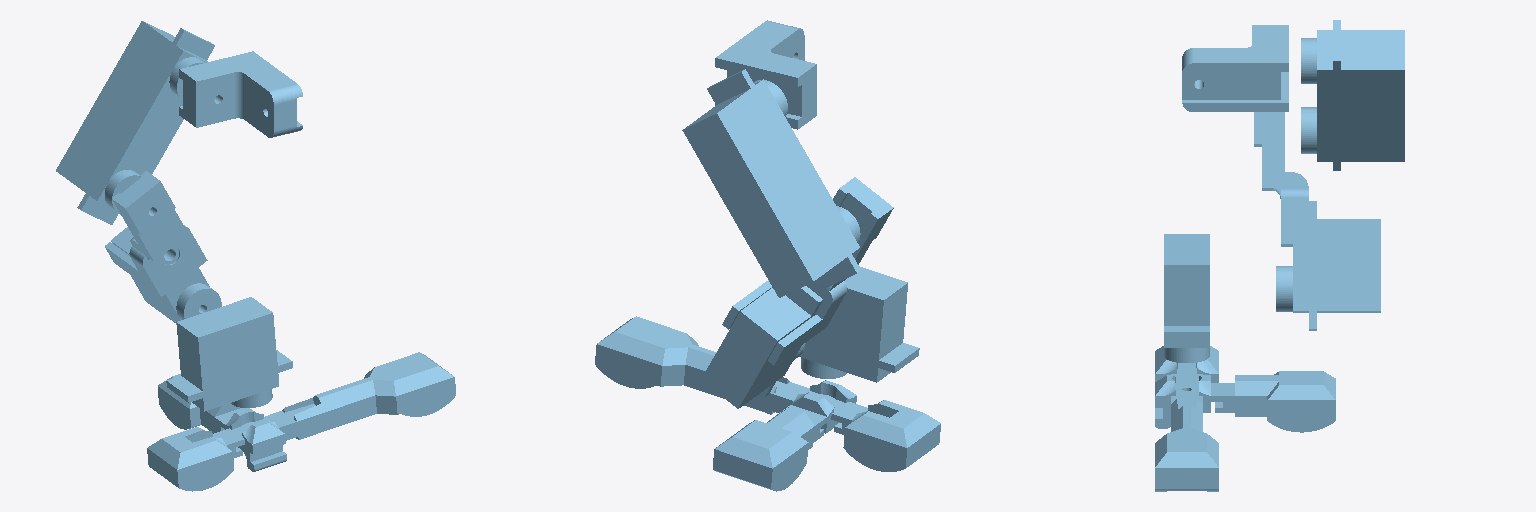
robot.urdf — battle-bot:
<robot name="battle-bot">
<link name="thigh_bracket">
<visual>
<origin xyz="0.0813147 0.0534459 -0.0195855" rpy="1.5708 1.5708 0" />
<geometry>
<mesh filename="package://battle_bot_description/meshes/thigh_bracket.stl"/>
</geometry>
<material name="thigh_bracket_material">
<color rgba="0.615686 0.811765 0.929412 1.0"/>
</material>
</visual>
<collision>
<origin xyz="0.0813147 0.0534459 -0.0195855" rpy="1.5708 1.5708 0" />
<geometry>
<mesh filename="package://battle_bot_description/meshes/thigh_bracket.stl"/>
</geometry>
<material name="thigh_bracket_material">
<color rgba="0.615686 0.811765 0.929412 1.0"/>
</material>
</collision>
<inertial>
<origin xyz="0.0882905 0.0438683 -0.0195855" rpy="0 0 0"/>
<mass value="0.00417552" />
<inertia ixx="2.17016e-07" ixy="1.35788e-21"  ixz="-8.47627e-08" iyy="3.64043e-07" iyz="8.35566e-22" izz="2.89792e-07" />
</inertial>
</link>

<link name="servo">
<visual>
<origin xyz="-0.00575 1.38778e-17 -0.011" rpy="2.3915e-30 1.50846e-16 7.00748e-17" />
<geometry>
<mesh filename="package://battle_bot_description/meshes/servo.stl"/>
</geometry>
<material name="servo_material">
<color rgba="0.615686 0.811765 0.929412 1.0"/>
</material>
</visual>
<collision>
<origin xyz="-0.00575 1.38778e-17 -0.011" rpy="2.3915e-30 1.50846e-16 7.00748e-17" />
<geometry>
<mesh filename="package://battle_bot_description/meshes/servo.stl"/>
</geometry>
<material name="servo_material">
<color rgba="0.615686 0.811765 0.929412 1.0"/>
</material>
</collision>
<inertial>
<origin xyz="-0.00539557 1.37738e-17 -0.0100053" rpy="0 0 0"/>
<mass value="0.0504114" />
<inertia ixx="2.92907e-06" ixy="1.55049e-22"  ixz="-2.14501e-07" iyy="4.82779e-06" iyz="1.34203e-23" izz="2.99518e-06" />
</inertial>
</link>

<link name="servo_2">
<visual>
<origin xyz="0 -0.003 -0.0115" rpy="1.5708 1.5708 0" />
<geometry>
<mesh filename="package://battle_bot_description/meshes/servo.stl"/>
</geometry>
<material name="servo_material">
<color rgba="0.615686 0.811765 0.929412 1.0"/>
</material>
</visual>
<collision>
<origin xyz="0 -0.003 -0.0115" rpy="1.5708 1.5708 0" />
<geometry>
<mesh filename="package://battle_bot_description/meshes/servo.stl"/>
</geometry>
<material name="servo_material">
<color rgba="0.615686 0.811765 0.929412 1.0"/>
</material>
</collision>
<inertial>
<origin xyz="-9.74562e-20 -0.00399472 -0.0118544" rpy="0 0 0"/>
<mass value="0.0504114" />
<inertia ixx="2.99518e-06" ixy="2.14501e-07"  ixz="-1.98692e-22" iyy="2.92907e-06" iyz="2.32563e-23" izz="4.82779e-06" />
</inertial>
</link>

<link name="knee_mount">
<visual>
<origin xyz="0.02 -2.08167e-17 0" rpy="-3.14159 -5.19963e-31 -1.13182e-17" />
<geometry>
<mesh filename="package://battle_bot_description/meshes/knee_mount.stl"/>
</geometry>
<material name="knee_mount_material">
<color rgba="0.615686 0.811765 0.929412 1.0"/>
</material>
</visual>
<collision>
<origin xyz="0.02 -2.08167e-17 0" rpy="-3.14159 -5.19963e-31 -1.13182e-17" />
<geometry>
<mesh filename="package://battle_bot_description/meshes/knee_mount.stl"/>
</geometry>
<material name="knee_mount_material">
<color rgba="0.615686 0.811765 0.929412 1.0"/>
</material>
</collision>
<inertial>
<origin xyz="0.0133553 -2.05638e-17 0.00239697" rpy="0 0 0"/>
<mass value="0.00351559" />
<inertia ixx="2.25727e-07" ixy="9.02483e-24"  ixz="-1.61691e-07" iyy="5.16506e-07" iyz="-2.27711e-24" izz="4.43653e-07" />
</inertial>
</link>

<link name="servo_3">
<visual>
<origin xyz="0.01375 -6.93889e-18 -0.007" rpy="-1.65854e-31 1.92395e-30 -2.39783e-17" />
<geometry>
<mesh filename="package://battle_bot_description/meshes/servo.stl"/>
</geometry>
<material name="servo_material">
<color rgba="0.615686 0.811765 0.929412 1.0"/>
</material>
</visual>
<collision>
<origin xyz="0.01375 -6.93889e-18 -0.007" rpy="-1.65854e-31 1.92395e-30 -2.39783e-17" />
<geometry>
<mesh filename="package://battle_bot_description/meshes/servo.stl"/>
</geometry>
<material name="servo_material">
<color rgba="0.615686 0.811765 0.929412 1.0"/>
</material>
</collision>
<inertial>
<origin xyz="0.0141044 -7.0762e-18 -0.00600528" rpy="0 0 0"/>
<mass value="0.0504114" />
<inertia ixx="2.92907e-06" ixy="-1.29931e-22"  ixz="-2.14501e-07" iyy="4.82779e-06" iyz="1.0376e-24" izz="2.99518e-06" />
</inertial>
</link>

<link name="ankle_mount">
<visual>
<origin xyz="-1.38778e-17 -1.38778e-17 -6.93889e-18" rpy="-3.25237e-30 -6.83855e-31 -1.47196e-17" />
<geometry>
<mesh filename="package://battle_bot_description/meshes/ankle_mount.stl"/>
</geometry>
<material name="ankle_mount_material">
<color rgba="0.615686 0.811765 0.929412 1.0"/>
</material>
</visual>
<collision>
<origin xyz="-1.38778e-17 -1.38778e-17 -6.93889e-18" rpy="-3.25237e-30 -6.83855e-31 -1.47196e-17" />
<geometry>
<mesh filename="package://battle_bot_description/meshes/ankle_mount.stl"/>
</geometry>
<material name="ankle_mount_material">
<color rgba="0.615686 0.811765 0.929412 1.0"/>
</material>
</collision>
<inertial>
<origin xyz="-0.00496699 -1.32419e-17 0.00657987" rpy="0 0 0"/>
<mass value="0.00578055" />
<inertia ixx="3.06238e-07" ixy="-1.0859e-23"  ixz="8.94401e-09" iyy="9.21258e-07" iyz="7.89028e-26" izz="8.48031e-07" />
</inertial>
</link>

<link name="servo_4">
<visual>
<origin xyz="1.38778e-17 -0.000206107 -0.00575" rpy="-1.5708 -6.56188e-32 1.47196e-17" />
<geometry>
<mesh filename="package://battle_bot_description/meshes/servo.stl"/>
</geometry>
<material name="servo_material">
<color rgba="0.615686 0.811765 0.929412 1.0"/>
</material>
</visual>
<collision>
<origin xyz="1.38778e-17 -0.000206107 -0.00575" rpy="-1.5708 -6.56188e-32 1.47196e-17" />
<geometry>
<mesh filename="package://battle_bot_description/meshes/servo.stl"/>
</geometry>
<material name="servo_material">
<color rgba="0.615686 0.811765 0.929412 1.0"/>
</material>
</collision>
<inertial>
<origin xyz="0.000354429 0.000788612 -0.00575" rpy="0 0 0"/>
<mass value="0.0504114" />
<inertia ixx="2.92907e-06" ixy="2.14501e-07"  ixz="4.52234e-23" iyy="2.99518e-06" iyz="-1.8923e-24" izz="4.82779e-06" />
</inertial>
</link>

<link name="left_foot">
<visual>
<origin xyz="0 0 0.00225" rpy="3.14159 -5.23129e-30 -2.32809e-31" />
<geometry>
<mesh filename="package://battle_bot_description/meshes/left_foot.stl"/>
</geometry>
<material name="left_foot_material">
<color rgba="0.615686 0.811765 0.929412 1.0"/>
</material>
</visual>
<collision>
<origin xyz="0 0 0.00225" rpy="3.14159 -5.23129e-30 -2.32809e-31" />
<geometry>
<mesh filename="package://battle_bot_description/meshes/left_foot.stl"/>
</geometry>
<material name="left_foot_material">
<color rgba="0.615686 0.811765 0.929412 1.0"/>
</material>
</collision>
<inertial>
<origin xyz="0.00725072 0.0108246 0.00184006" rpy="0 0 0"/>
<mass value="0.00951305" />
<inertia ixx="5.9103e-06" ixy="7.46645e-07"  ixz="7.18778e-09" iyy="1.60668e-06" iyz="3.05683e-08" izz="7.38494e-06" />
</inertial>
</link>

<joint name="ankle_servo_h" type="revolute">
<origin xyz="0.00575 0.0237939 -0.00575" rpy="-1.5708 -1.5708 0" />
<parent link="servo_4" />
<child link="left_foot" />
<axis xyz="0 0 1"/>
<limit effort="1" velocity="20" />
<joint_properties friction="0.0"/>
</joint>

<joint name="ankle" type="fixed">
<origin xyz="-0.00540709 -0.00271 0.0075" rpy="-3.14159 -3.11007e-26 -1.47196e-17" />
<parent link="ankle_mount" />
<child link="servo_4" />
<axis xyz="0 0 1"/>
<limit effort="1" velocity="20" />
<joint_properties friction="0.0"/>
</joint>

<joint name="ankle_servo_v" type="revolute">
<origin xyz="0.0195 6.93889e-18 0.017" rpy="5.52479e-16 -4.02837e-16 1.17242" />
<parent link="servo_3" />
<child link="ankle_mount" />
<axis xyz="0 0 1"/>
<limit effort="1" velocity="20" />
<joint_properties friction="0.0"/>
</joint>

<joint name="knee" type="fixed">
<origin xyz="0.02 -1.38778e-17 0.007" rpy="-3.14159 5.94521e-17 -2.96252e-16" />
<parent link="knee_mount" />
<child link="servo_3" />
<axis xyz="0 0 1"/>
<limit effort="1" velocity="20" />
<joint_properties friction="0.0"/>
</joint>

<joint name="knee_servo" type="revolute">
<origin xyz="0 -0.023 -0.01725" rpy="-1.5708 0.474293 -3.18767e-16" />
<parent link="servo_2" />
<child link="knee_mount" />
<axis xyz="0 0 1"/>
<limit effort="1" velocity="20" />
<joint_properties friction="0.0"/>
</joint>

<joint name="thigh" type="fixed">
<origin xyz="-0.01725 1.38778e-17 -0.014" rpy="-1.5708 4.70547e-30 -1.5708" />
<parent link="servo" />
<child link="servo_2" />
<axis xyz="0 0 1"/>
<limit effort="1" velocity="20" />
<joint_properties friction="0.0"/>
</joint>

<joint name="thigh_servo" type="revolute">
<origin xyz="0.0813147 0.0614459 -0.0195855" rpy="1.5708 -0.959931 -3.87553e-14" />
<parent link="thigh_bracket" />
<child link="servo" />
<axis xyz="0 0 1"/>
<limit effort="1" velocity="20" />
<joint_properties friction="0.0"/>
</joint>


</robot>

--- Render facts (derived) ---
Views: 3 orthographic renders of the robot side by side, from view 1: azimuth 30°, elevation 25°; view 2: azimuth 150°, elevation 25°; view 3: azimuth 270°, elevation 25°.
Model battle-bot with 8 links and 7 joints (4 revolute, 3 fixed), rooted at thigh_bracket, posed every joint at zero.
Links seen in each view (by area): view 1: left_foot, servo_4, thigh_bracket, servo, servo_2, knee_mount, servo_3; view 2: left_foot, servo, servo_2, servo_4, servo_3, thigh_bracket, knee_mount; view 3: left_foot, servo, thigh_bracket, servo_3, servo_4, knee_mount, servo_2.
Link boxes in pixels (box(x1,y1,x2,y2)): left_foot: box(147, 352, 455, 491); servo_4: box(166, 297, 292, 411); thigh_bracket: box(179, 51, 302, 137); servo: box(99, 21, 214, 140); servo_2: box(56, 96, 170, 224); knee_mount: box(105, 171, 207, 296); servo_3: box(111, 227, 221, 324); left_foot: box(595, 316, 940, 491); servo: box(682, 69, 811, 213); servo_2: box(731, 164, 860, 297); servo_4: box(799, 266, 919, 382); servo_3: box(701, 286, 822, 408); thigh_bracket: box(715, 20, 816, 129); knee_mount: box(722, 177, 893, 365); left_foot: box(1155, 346, 1335, 491); servo: box(1301, 20, 1404, 124); thigh_bracket: box(1182, 25, 1288, 111); servo_3: box(1276, 201, 1380, 330); servo_4: box(1164, 234, 1209, 362); knee_mount: box(1254, 112, 1380, 246); servo_2: box(1301, 107, 1404, 170).
Bounding box of the posed robot: 0.0889 × 0.0623 × 0.1115 m (x, y, z).
7 mesh visuals loaded from 5 distinct referenced files (4 binary STL); not drawn: 1 (reference not matched to a file when rendering).